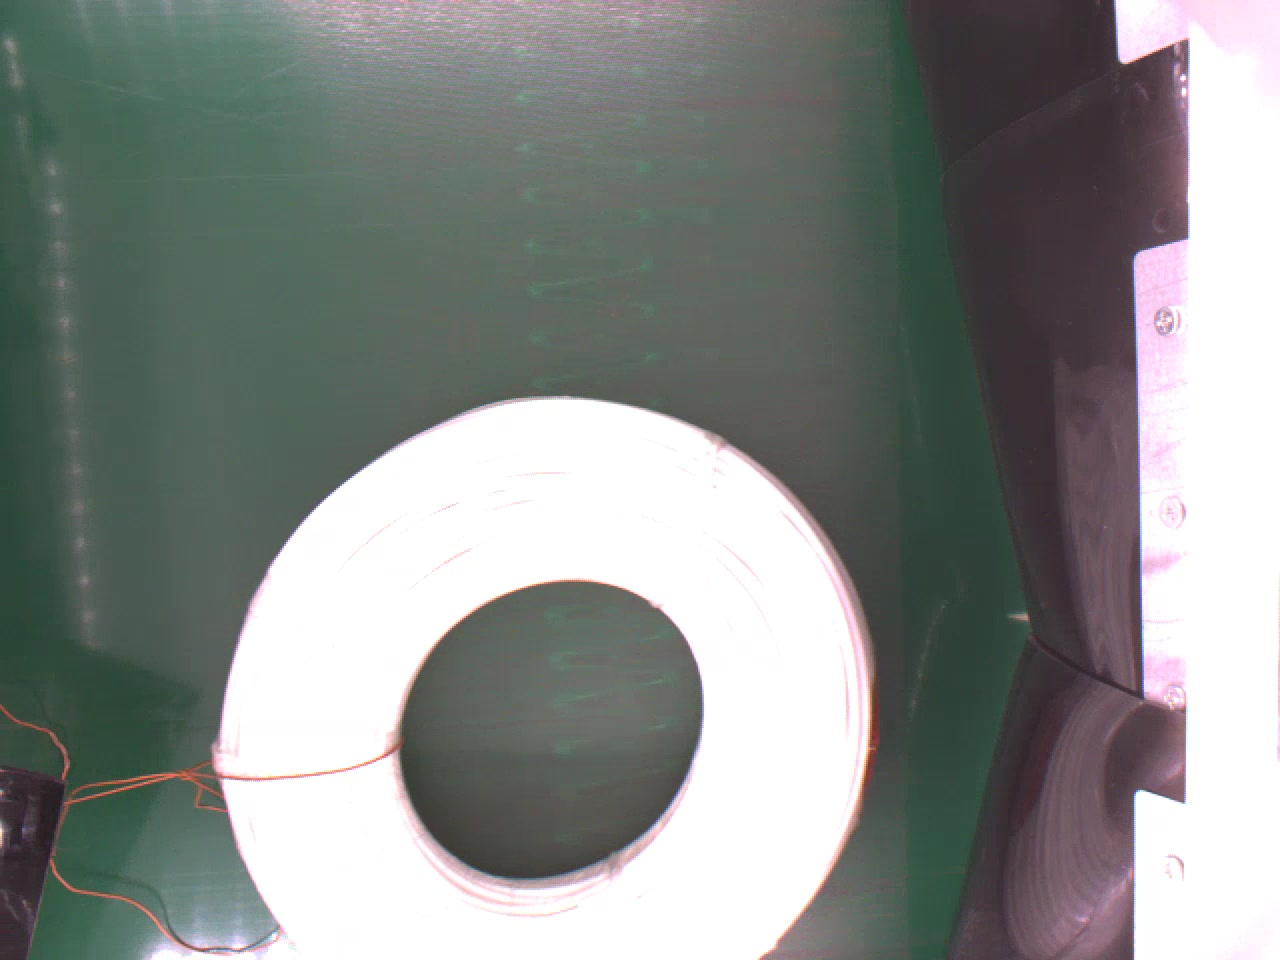white: (203, 394, 875, 960)
